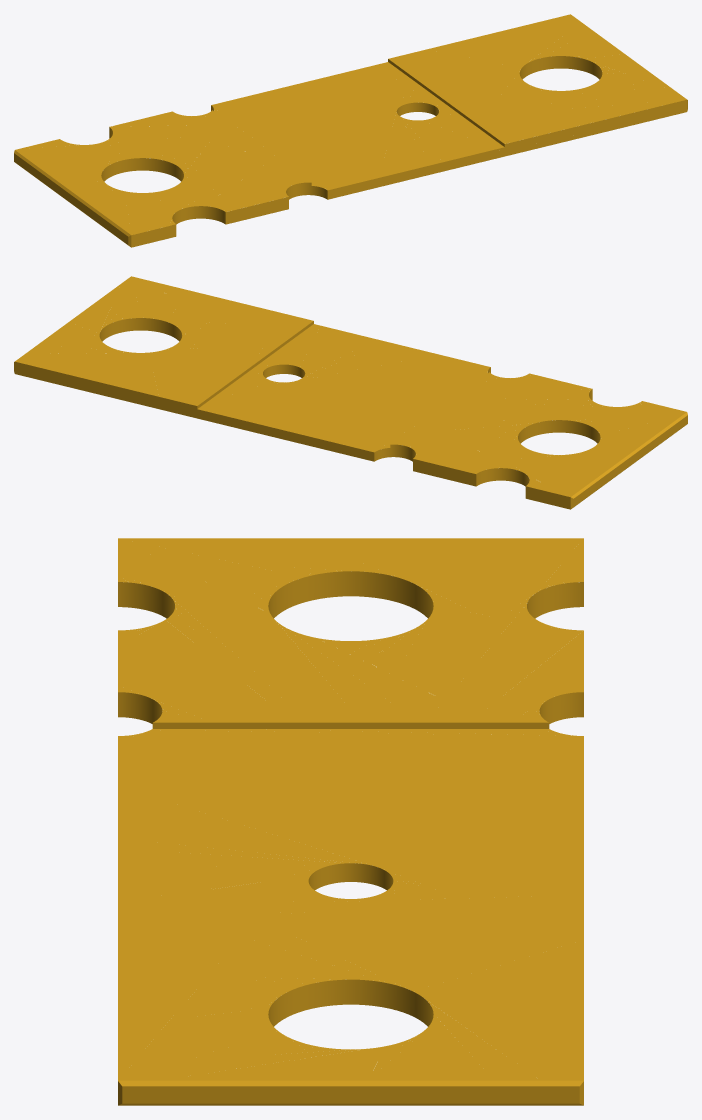
The model's file is asinma-rammer-g80-wear-plate-no1-02.glb.
3 renders of one model, top to bottom at view 1: azimuth 30°, elevation 25°; view 2: azimuth 150°, elevation 25°; view 3: azimuth 270°, elevation 25°, orthographic. The views are drawn at different scales.
Visible parts, largest first — view 1: body; view 2: body; view 3: body.
Boxes of the visible parts, bbox=[...] form: body: bbox=[14, 14, 687, 247]; body: bbox=[14, 276, 687, 509]; body: bbox=[118, 538, 583, 1105].
Size of the model in its own units: 0.61 by 0.013 by 0.22.
